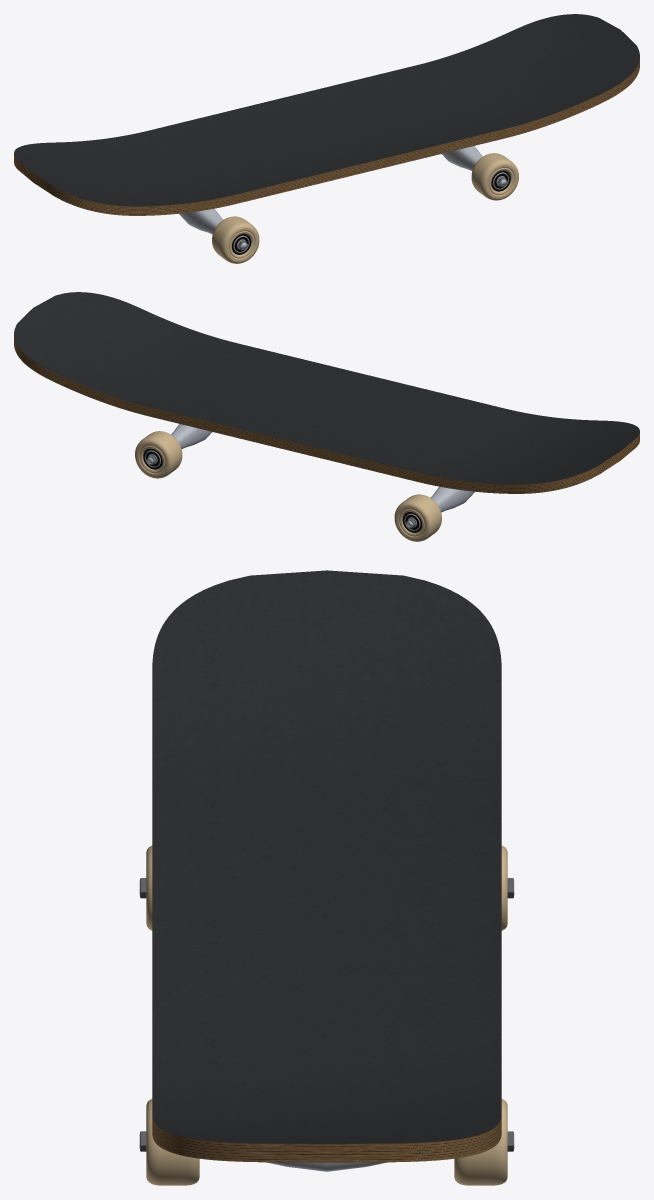
File: skateboard.obj
The picture shows the model from 3 angles, top to bottom: view 1: azimuth 30°, elevation 25°; view 2: azimuth 150°, elevation 25°; view 3: azimuth 270°, elevation 25°; orthographic projection. The views are drawn at different scales.
Visible parts, largest first — view 1: Deck, Wheel_FL, Wheel_BL, Hanger_B, Hanger_F; view 2: Deck, Wheel_FR, Wheel_BR, Hanger_B, Hanger_F; view 3: Deck, Wheel_FR, Wheel_FL.
Boxes of the visible parts, <box> form: Deck: <box>14,14,639,215</box>; Wheel_FL: <box>471,153,518,200</box>; Wheel_BL: <box>212,216,259,263</box>; Hanger_B: <box>179,208,223,234</box>; Hanger_F: <box>442,146,482,170</box>; Deck: <box>14,292,639,493</box>; Wheel_FR: <box>135,431,182,478</box>; Wheel_BR: <box>394,494,441,541</box>; Hanger_B: <box>430,486,474,512</box>; Hanger_F: <box>171,424,211,448</box>; Deck: <box>152,570,501,1162</box>; Wheel_FR: <box>454,1099,513,1185</box>; Wheel_FL: <box>140,1099,199,1185</box>.
Size of the model in its own units: 0.815 by 0.131 by 0.225.
Materials: 9 (3 with a texture image).
